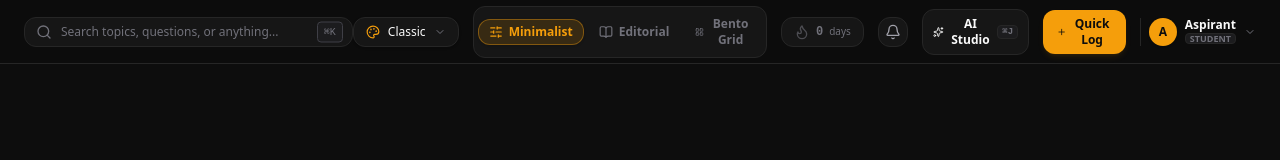
UI Declutter and Navigation Verification › Header Declutter & Layout Switcher › renders the layout switcher with 3 options and updates layout on click
Expected: the radio button with test id "layout-toggle-minimalist" is shown, [478,18,584,44]
Expected: the radio button with test id "layout-toggle-bento" is shown, [684,10,762,52]
Click Editorial
Click the radio button with test id "layout-toggle-editorial": click(634, 32) [588,18,680,44]
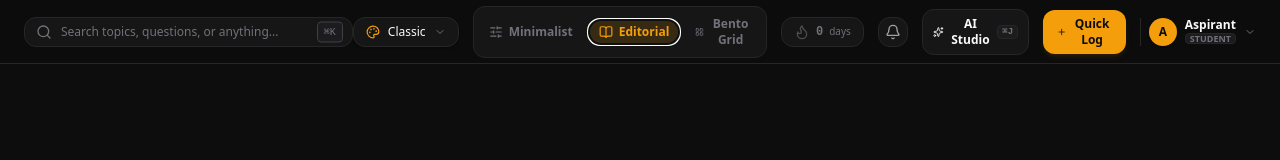
Expected: the radio button with test id "layout-toggle-editorial" is checked, [588,18,680,44]
Expected: the radio button with test id "layout-toggle-minimalist" is not checked, [478,18,584,44]
Click Bento
Click the radio button with test id "layout-toggle-bento": click(723, 32) [684,10,762,52]
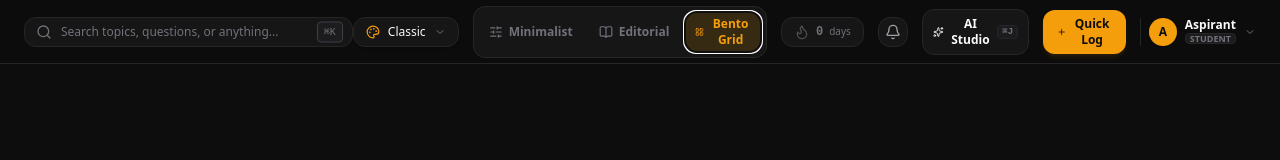
Expected: the radio button with test id "layout-toggle-bento" is checked, [684,10,762,52]
